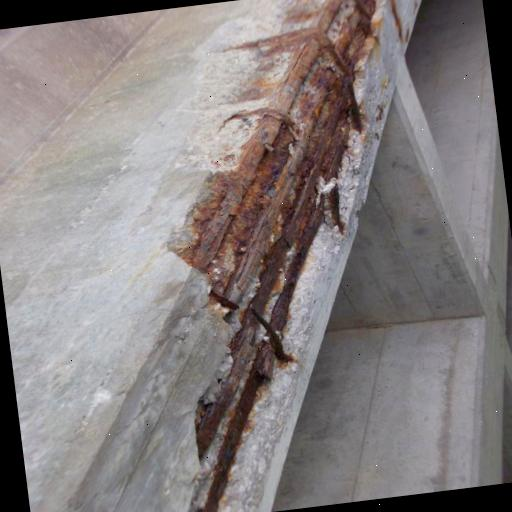spalling: (167, 0, 398, 512)
